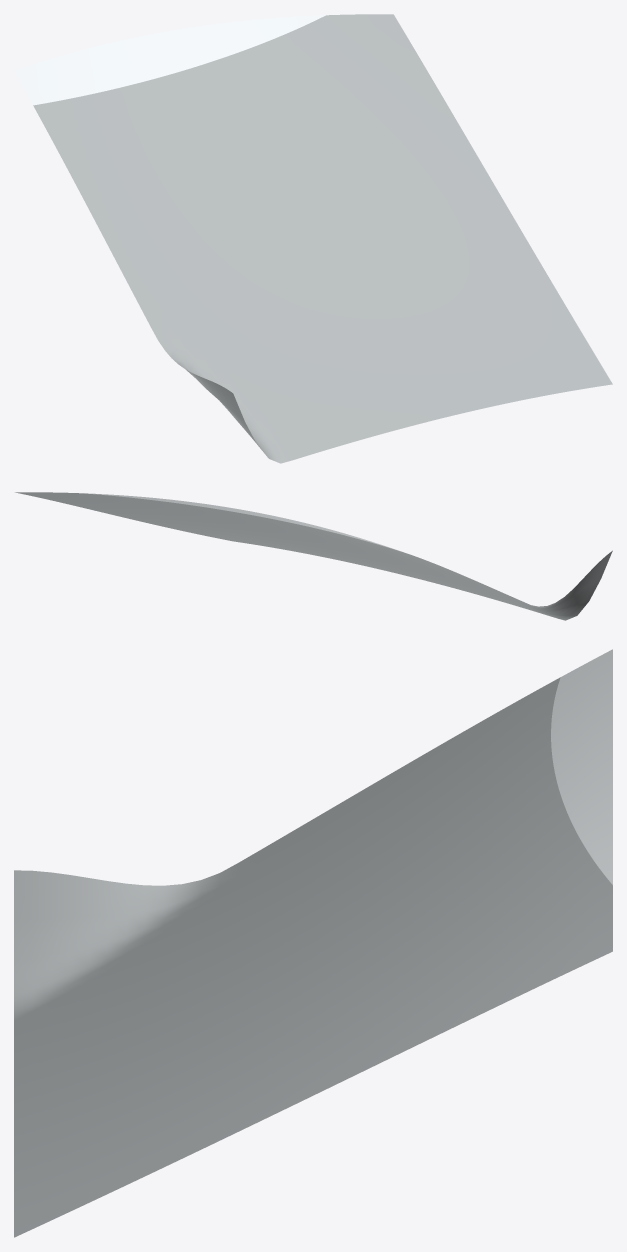
File: alpine-14-11.glb
The picture shows the model from 3 angles, top to bottom: view 1: azimuth 30°, elevation 25°; view 2: azimuth 150°, elevation 25°; view 3: azimuth 270°, elevation 25°; orthographic projection. The views are drawn at different scales.
Parts seen in each view (by area): view 1: alpine-14-11; view 2: alpine-14-11; view 3: alpine-14-11.
Boxes of the visible parts, box(x1,y1,x2,y2) form: alpine-14-11: box(14, 14, 612, 463); alpine-14-11: box(15, 492, 612, 620); alpine-14-11: box(14, 649, 612, 1237).
Bounding box in the file's own units: 256 × 161 × 256.
Materials: 2 (2 with a texture image).
